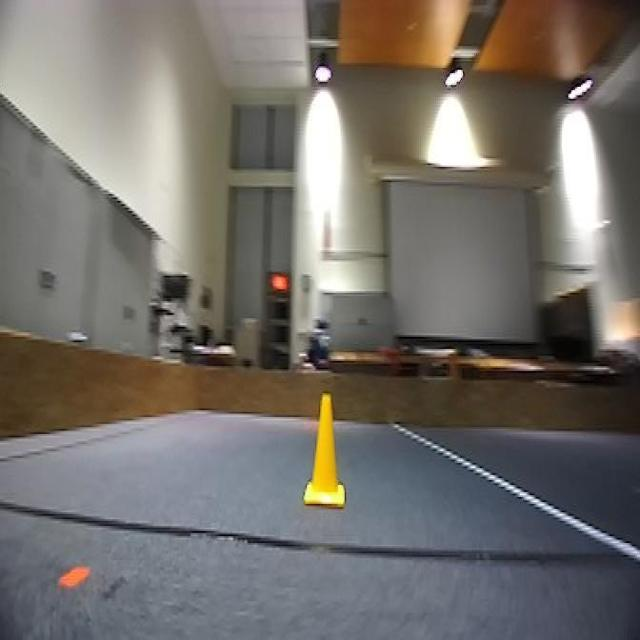frc_cone: (298, 392, 346, 514)
